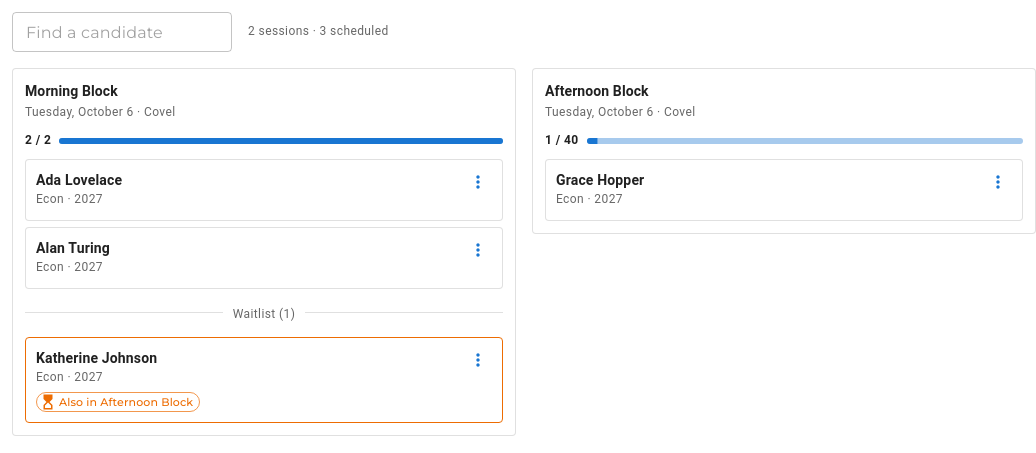
it: InterviewRosterGallery › a waitlisted card offers the right actions › still offers a plain move for a confirmed candidate
Click the button named "Actions for Ada Lovelace" at point(478, 182), box [464, 170, 492, 194]
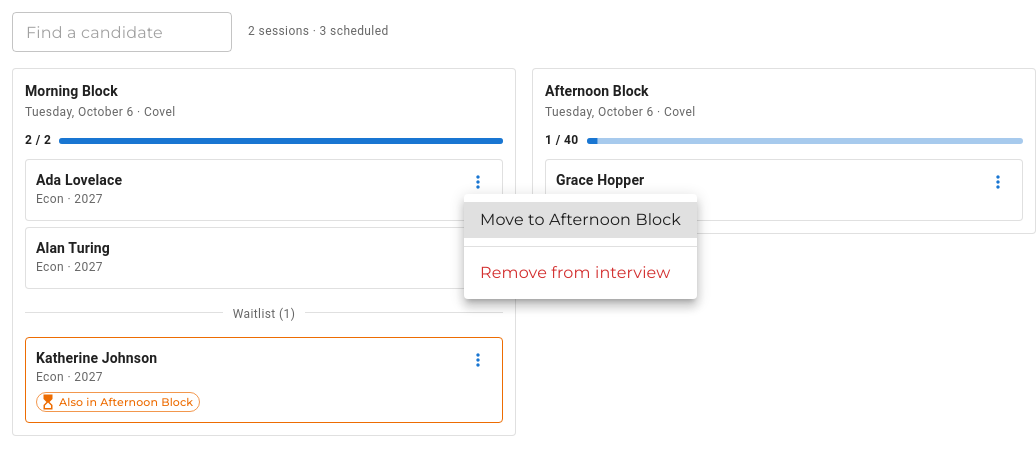
Expected: the menu item "Move to Afternoon Block" is shown, [464, 202, 697, 238]
